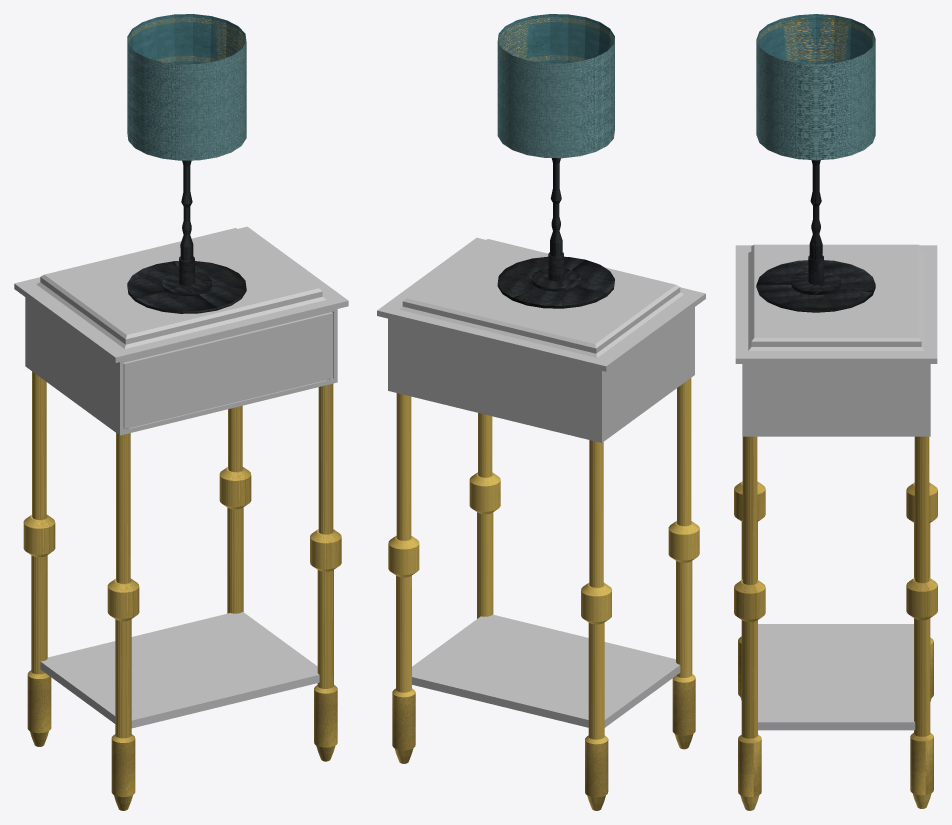
The model's file is Smoll tabel next to bed.fbx.
The picture shows the model from 3 angles, left to right: view 1: azimuth 30°, elevation 25°; view 2: azimuth 150°, elevation 25°; view 3: azimuth 270°, elevation 25°; orthographic projection.
Visible parts, largest first — view 1: polySurface525, polySurface531, polySurface536, polySurface524, polySurface530, polySurface527, polySurface528, polySurface535, polySurface529; view 2: polySurface525, polySurface531, polySurface536, polySurface529, polySurface528, polySurface527, polySurface535, polySurface530; view 3: polySurface525, polySurface531, polySurface536, polySurface530, polySurface529, polySurface535, polySurface527, polySurface528.
Boxes of the visible parts, x1,y1,x2,y2 form: polySurface525: (14, 226, 348, 435); polySurface531: (40, 612, 319, 728); polySurface536: (127, 14, 246, 160); polySurface524: (123, 312, 333, 429); polySurface530: (310, 378, 341, 761); polySurface527: (107, 427, 139, 810); polySurface528: (23, 371, 55, 746); polySurface535: (127, 160, 246, 313); polySurface529: (219, 405, 251, 613); polySurface525: (377, 237, 705, 442); polySurface531: (412, 614, 680, 727); polySurface536: (497, 14, 614, 158); polySurface529: (388, 393, 419, 763); polySurface528: (581, 440, 611, 810); polySurface527: (668, 378, 699, 749); polySurface535: (497, 158, 614, 308); polySurface530: (469, 413, 500, 618); polySurface525: (735, 244, 937, 436); polySurface531: (758, 624, 915, 730); polySurface536: (756, 14, 875, 160); polySurface530: (734, 436, 765, 810); polySurface529: (906, 436, 937, 808); polySurface535: (756, 160, 875, 312); polySurface527: (734, 481, 765, 700); polySurface528: (906, 482, 937, 701).
Size of the model in its own units: 73.01 by 216 by 55.52.
